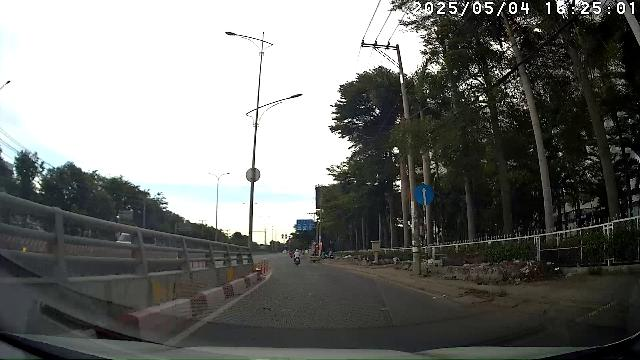301a-cac-xe-chi-duoc-di-thang: (414, 183, 434, 205)
